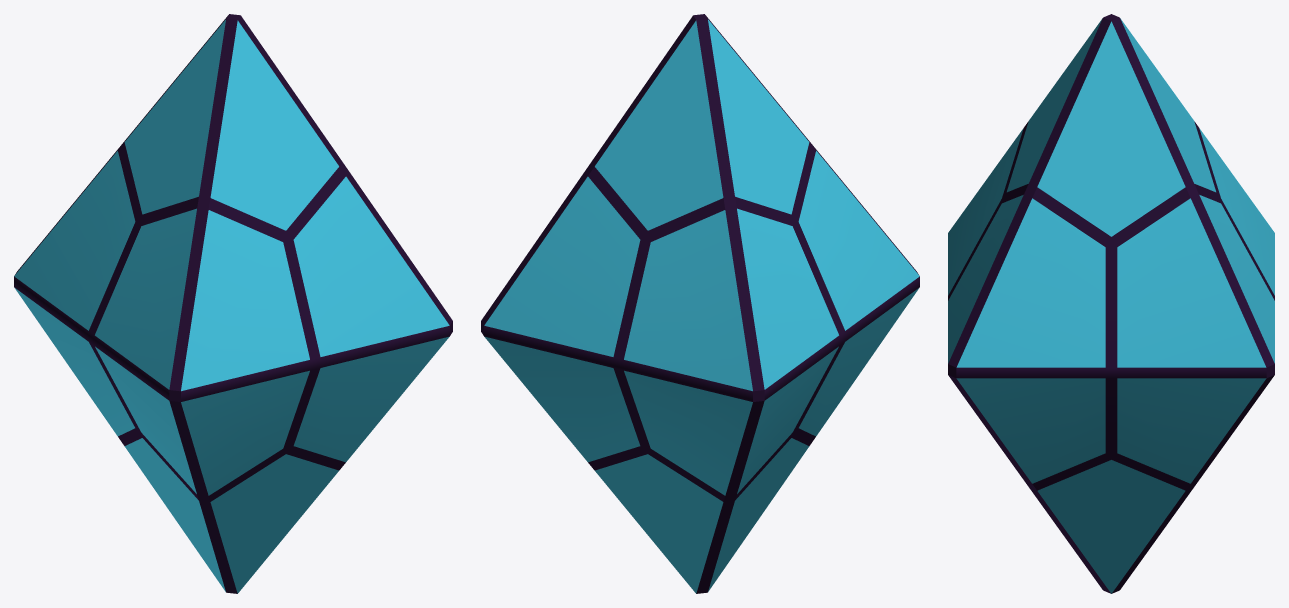
Rendered from losange_export.fbx.
The picture shows the model from 3 angles, left to right: view 1: azimuth 30°, elevation 25°; view 2: azimuth 150°, elevation 25°; view 3: azimuth 270°, elevation 25°; orthographic projection.
Parts seen in each view (by area): view 1: pCube8; view 2: pCube8; view 3: pCube8.
Part boxes in pixels (left/top/right/bottom): pCube8: left=14, top=14, right=452, bottom=593; pCube8: left=481, top=14, right=919, bottom=593; pCube8: left=948, top=14, right=1274, bottom=593.
Size of the model in its own units: 0.9821 by 1.9 by 0.9821.
